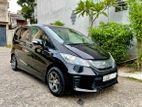car: (11, 25, 119, 97)
